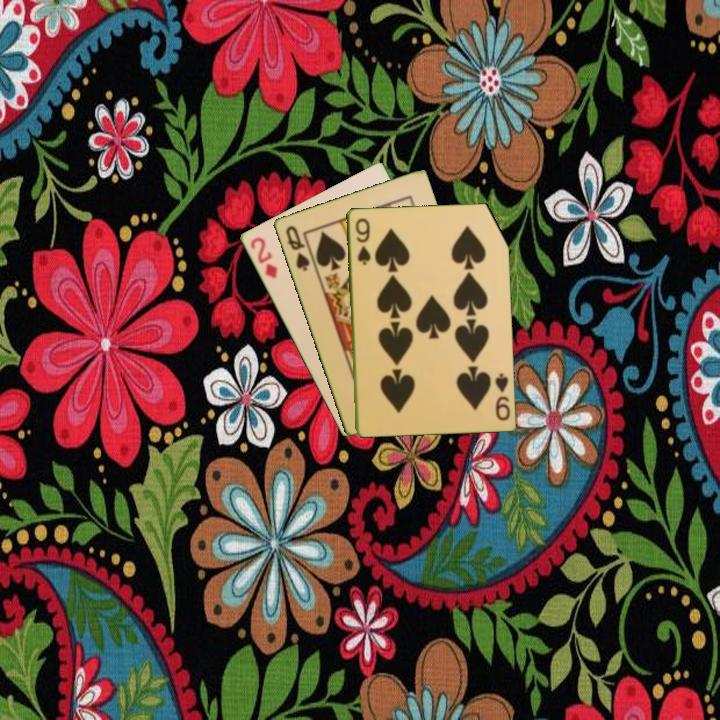2d: (246, 233, 280, 282)
9s: (352, 215, 373, 268), (491, 370, 512, 423)
Qs: (282, 222, 312, 274)
